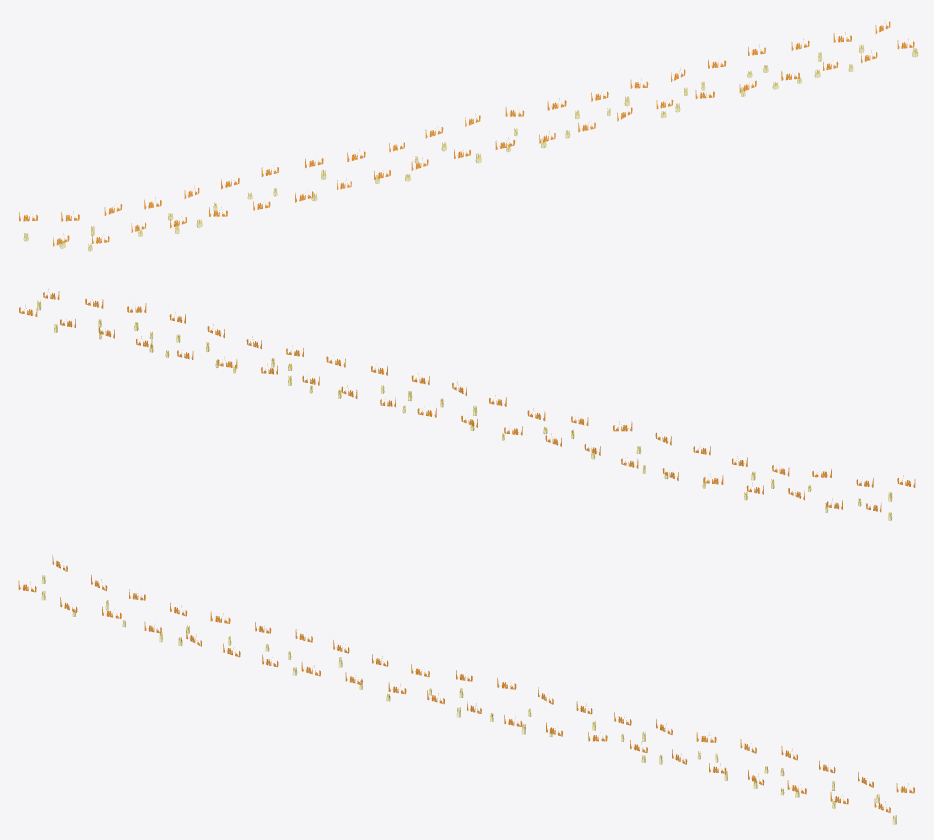
The model's file is HideGroundedEffectsCompact.glb.
3 renders of one model, top to bottom at view 1: azimuth 30°, elevation 25°; view 2: azimuth 150°, elevation 25°; view 3: azimuth 330°, elevation 25°, orthographic.
Size of the model in its own units: 347 by 15.64 by 25.08.
Materials: 1 (1 with a texture image).
